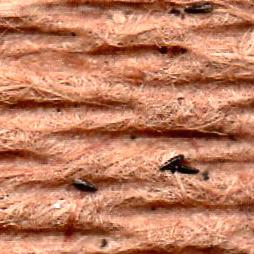egg: (161, 154, 182, 170), (177, 163, 198, 174), (72, 180, 96, 189), (184, 5, 212, 12)
